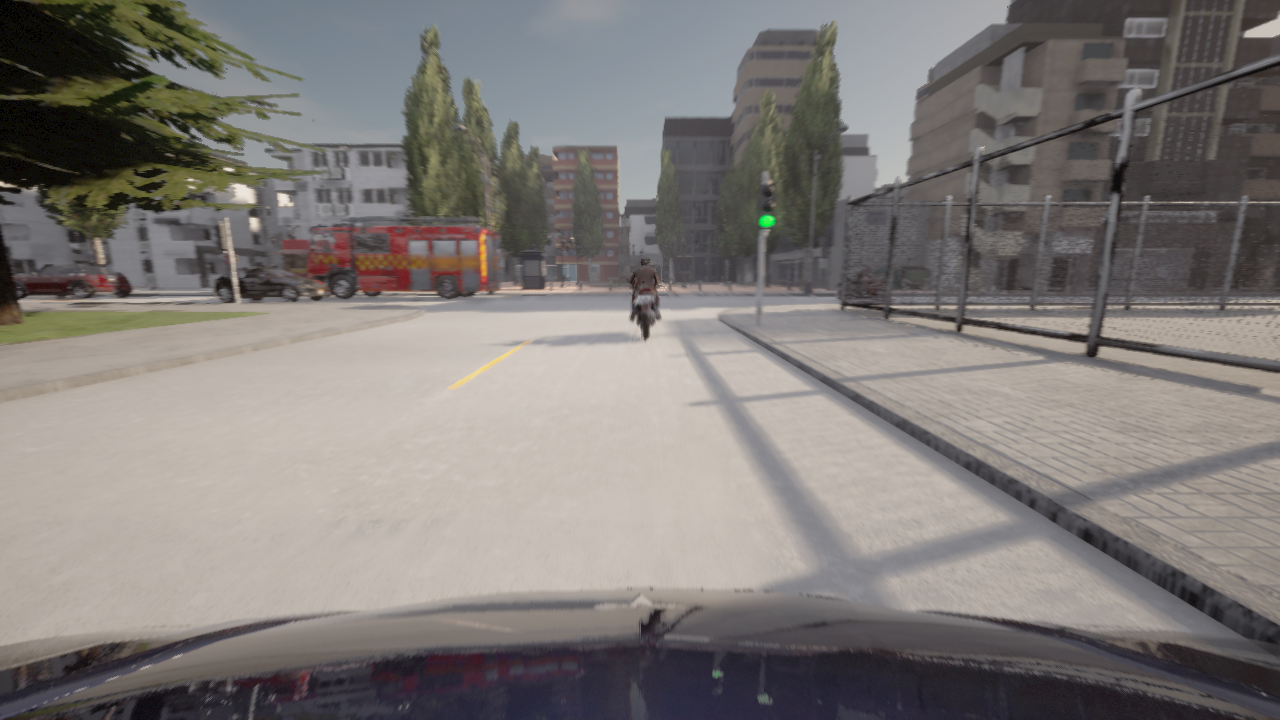cyclist: (0, 588, 1279, 719), (306, 217, 501, 299), (213, 267, 328, 302), (13, 264, 131, 298), (623, 279, 663, 340), (837, 273, 885, 300), (324, 291, 331, 297)
